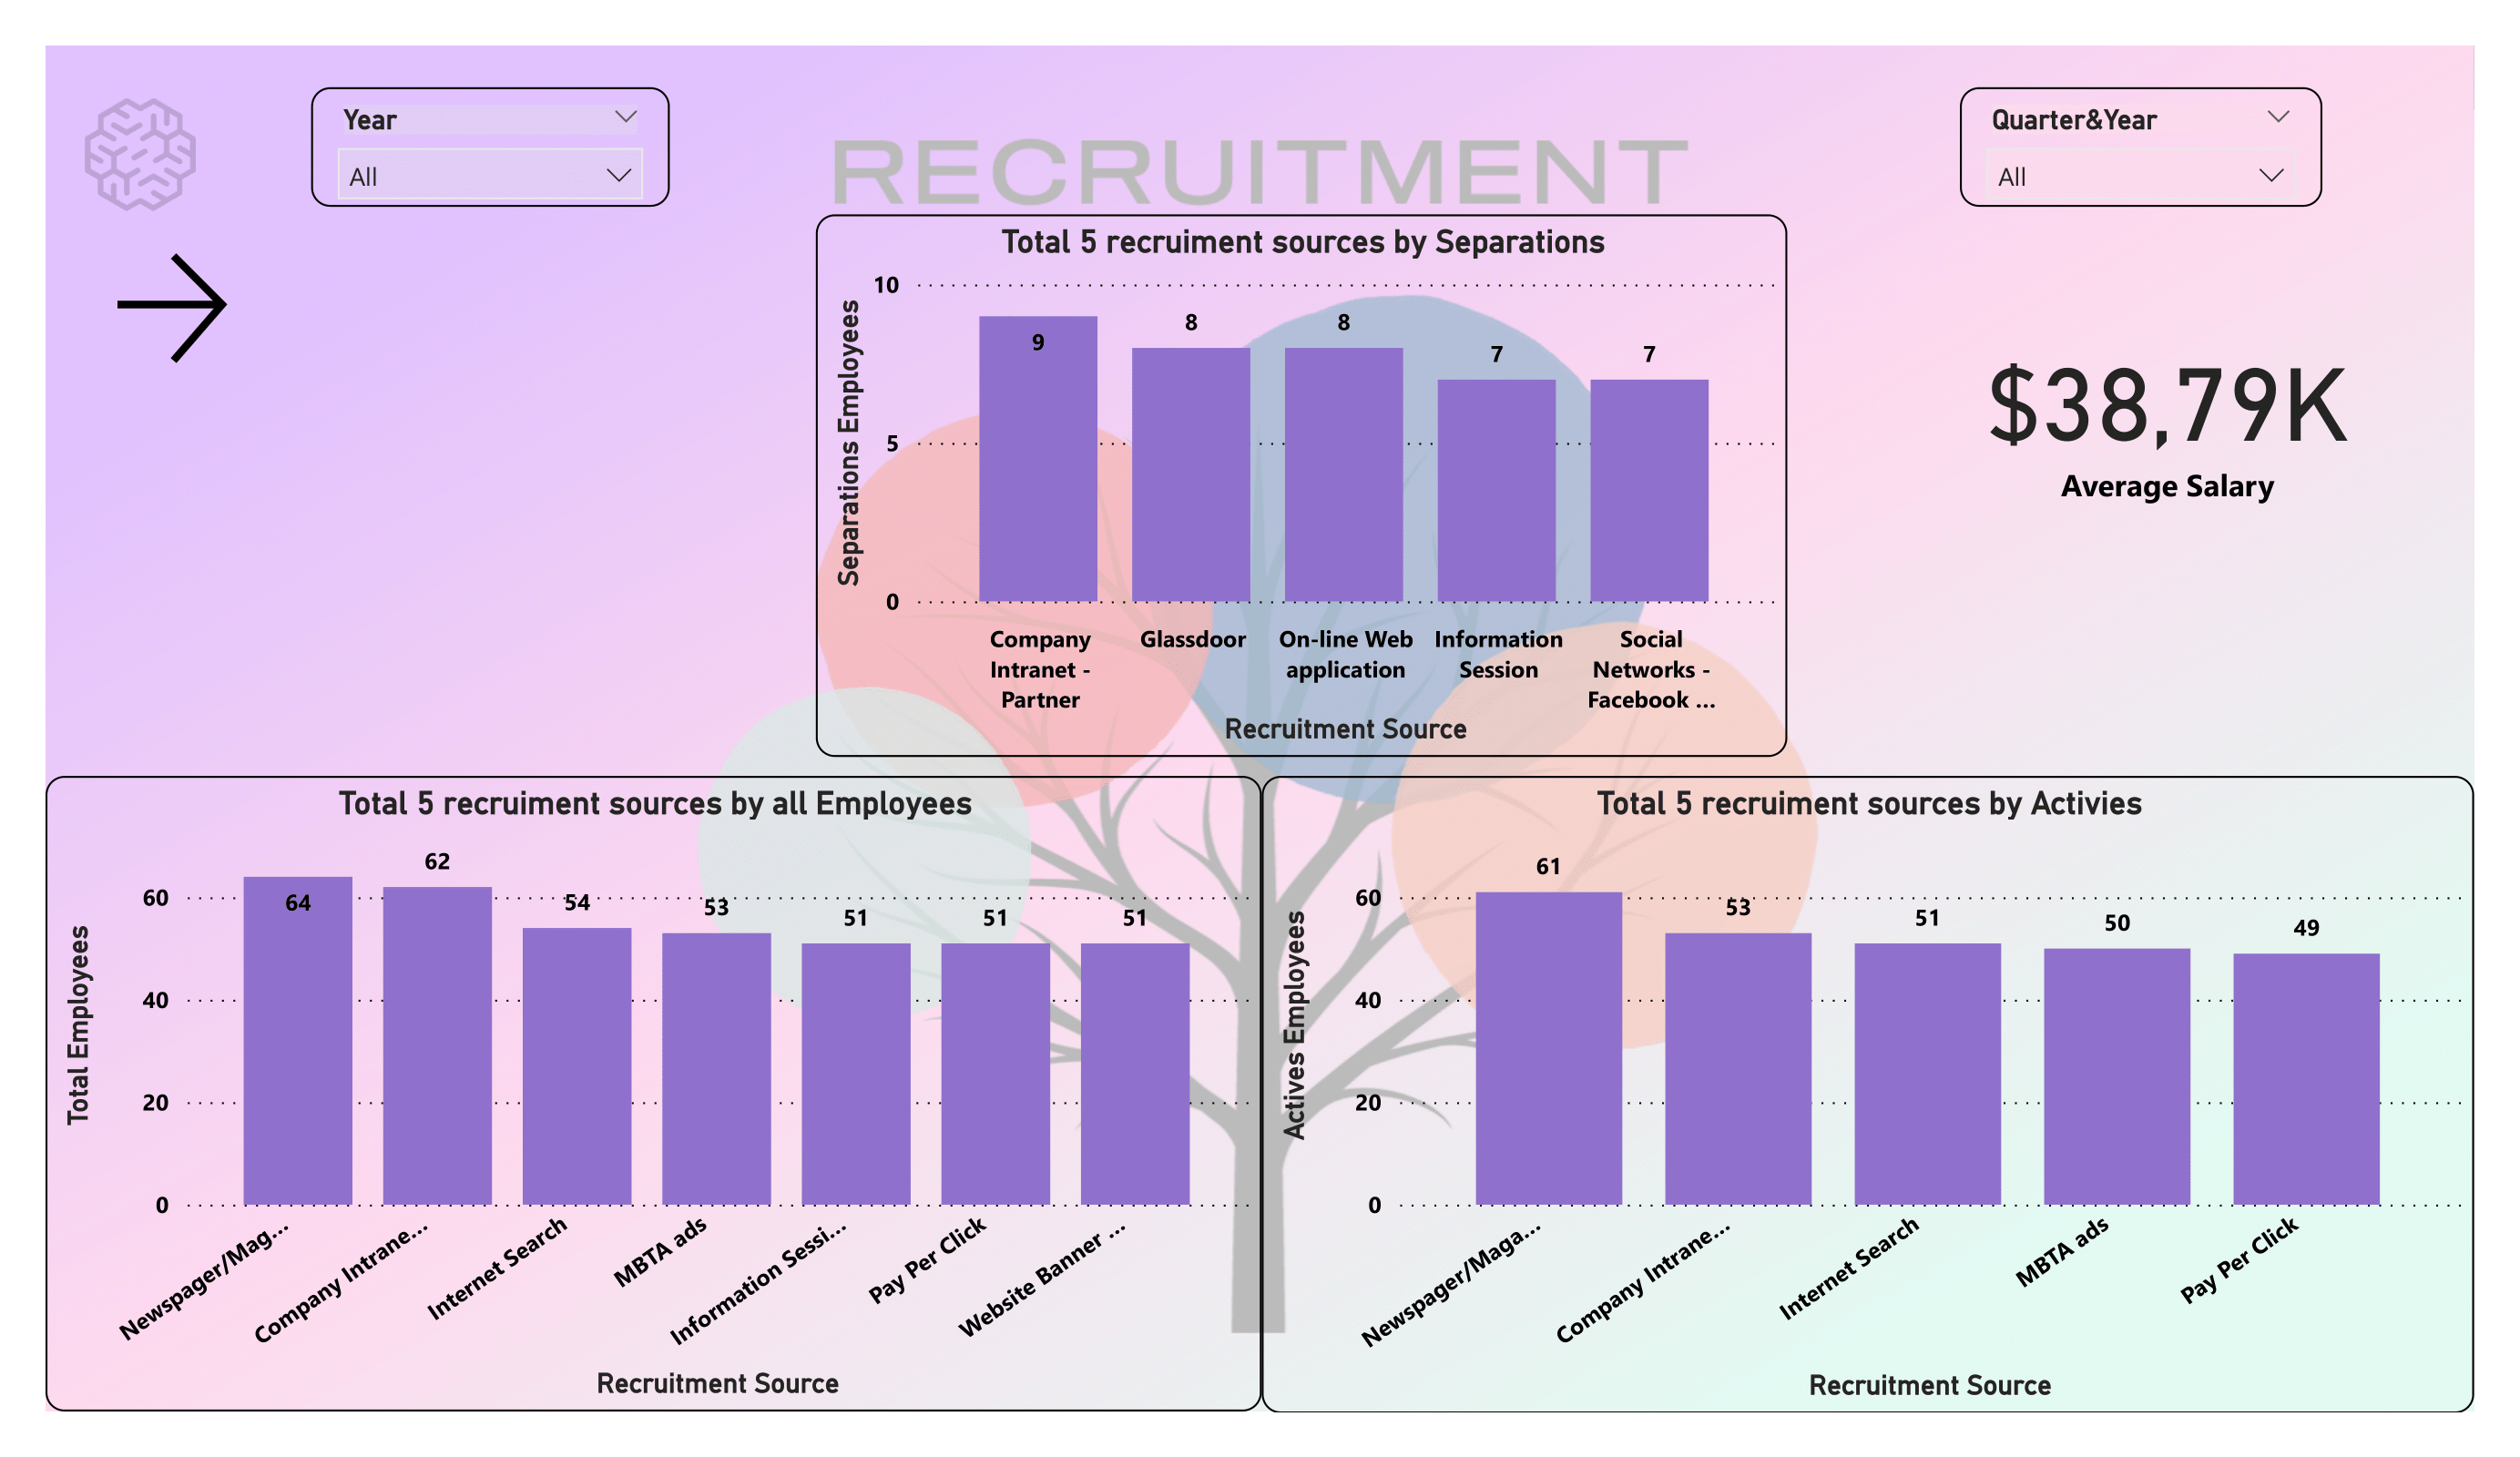

Layout of this report page (visuals, bound fields, positions):
{"tool":"powerbi","page":{"name":"RECRUITMENT","canvas":[1280,720],"ordinal":8},"visuals":[{"type":"image","box":[15.4,22.7,69,69],"z":0},{"type":"lineStackedColumnComboChart","title":"Total 5 recruiment sources by all Employees","fields":{"Category":["RecruitmentSource.RecruitmentSource"],"Y":["1.DepartmentKeyMeasures.Total Employees"]},"box":[0,385.3,640.7,335.1],"z":1000},{"type":"card","fields":{"Values":["4.RecruitmentKeyMeasures.Average Salary"]},"box":[990.6,138.8,255.4,107.8],"z":2000},{"type":"slicer","fields":{"Values":["Calendar.Year"]},"box":[139.7,22.3,189.2,63.1],"z":3000},{"type":"slicer","fields":{"Values":["Calendar.QuarterInCalendar"]},"box":[1009.2,22.3,190.5,63.1],"z":4000},{"type":"lineStackedColumnComboChart","title":"Total 5 recruiment sources by Activies ","fields":{"Category":["RecruitmentSource.RecruitmentSource"],"Y":["1.DepartmentKeyMeasures.Actives Employee"]},"box":[641,385.2,639,335.6],"z":5000},{"type":"actionButton","box":[14.8,103.3,100.4,70.9],"z":6000},{"type":"lineStackedColumnComboChart","title":"Total 5 recruiment sources by Separations","fields":{"Category":["RecruitmentSource.RecruitmentSource"],"Y":["1.DepartmentKeyMeasures.Separations Employees"]},"box":[406.3,89.3,512,285.8],"z":7000}]}

Visuals, with their boxes on the page's 1280x720 design canvas (x1, y1, x2, y2). These are canvas units, not pixel positions in the 2520x1457 screenshot, which may show the page scaled, cropped or inside an application window:
image: BBox(15, 23, 84, 92)
"Total 5 recruiment sources by all Employees" lineStackedColumnComboChart: BBox(0, 385, 641, 720)
card - 4.RecruitmentKeyMeasures.Average Salary: BBox(991, 139, 1246, 247)
slicer - Calendar.Year: BBox(140, 22, 329, 85)
slicer - Calendar.QuarterInCalendar: BBox(1009, 22, 1200, 85)
"Total 5 recruiment sources by Activies " lineStackedColumnComboChart: BBox(641, 385, 1280, 721)
actionButton: BBox(15, 103, 115, 174)
"Total 5 recruiment sources by Separations" lineStackedColumnComboChart: BBox(406, 89, 918, 375)
